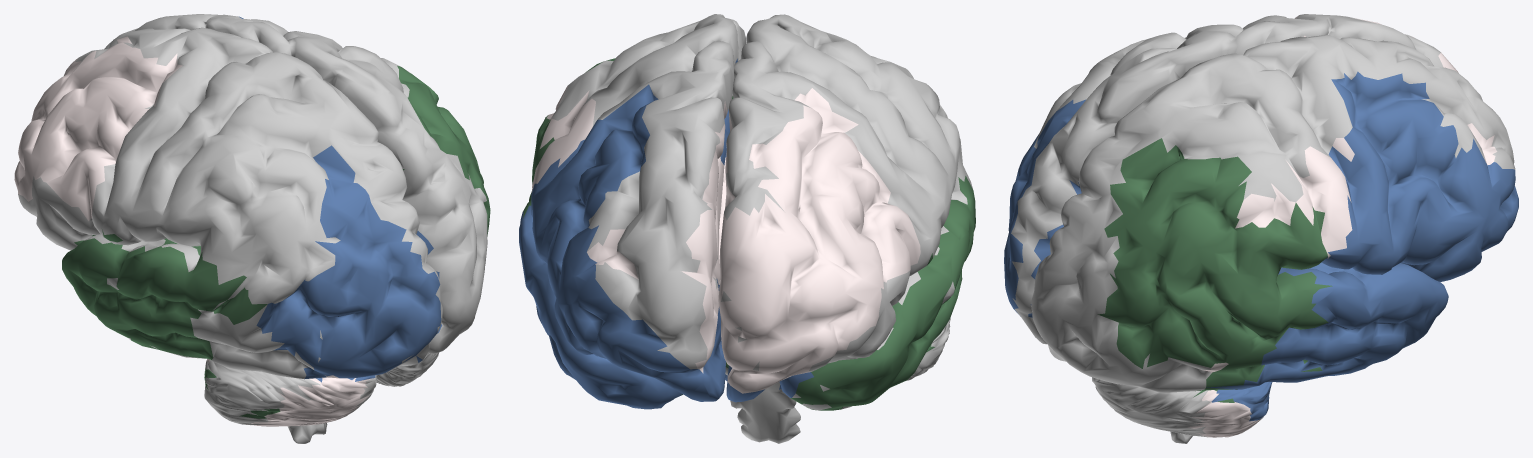
Rendered from brain.fbx.
3 renders of one model, left to right at view 1: azimuth 30°, elevation 25°; view 2: azimuth 150°, elevation 25°; view 3: azimuth 270°, elevation 25°, orthographic. The views are drawn at different scales.
Parts seen in each view (by area): view 1: default; view 2: default; view 3: default.
Boxes of the visible parts, bbox=[...] form: default: bbox=[14, 14, 490, 443]; default: bbox=[519, 14, 975, 443]; default: bbox=[1004, 14, 1518, 443].
Bounding box in the file's own units: 5.54 × 5.52 × 6.49.
